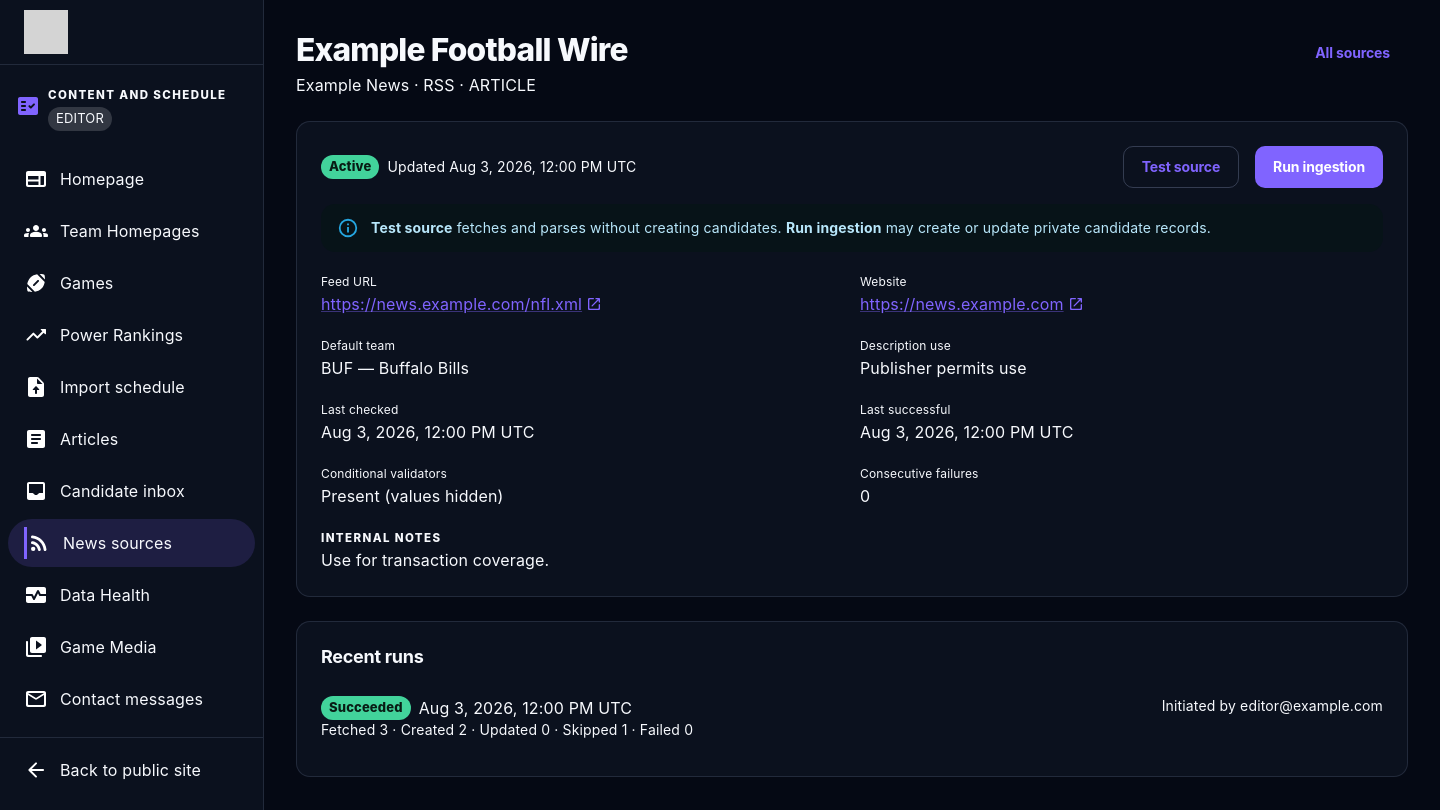
Test: news source administration › shows bounded rate-limit feedback
The width and height of the screenshot is (1440, 810).
Click the button "Test source". click: coordinates (1181, 167)
box: [1123, 146, 1239, 188]
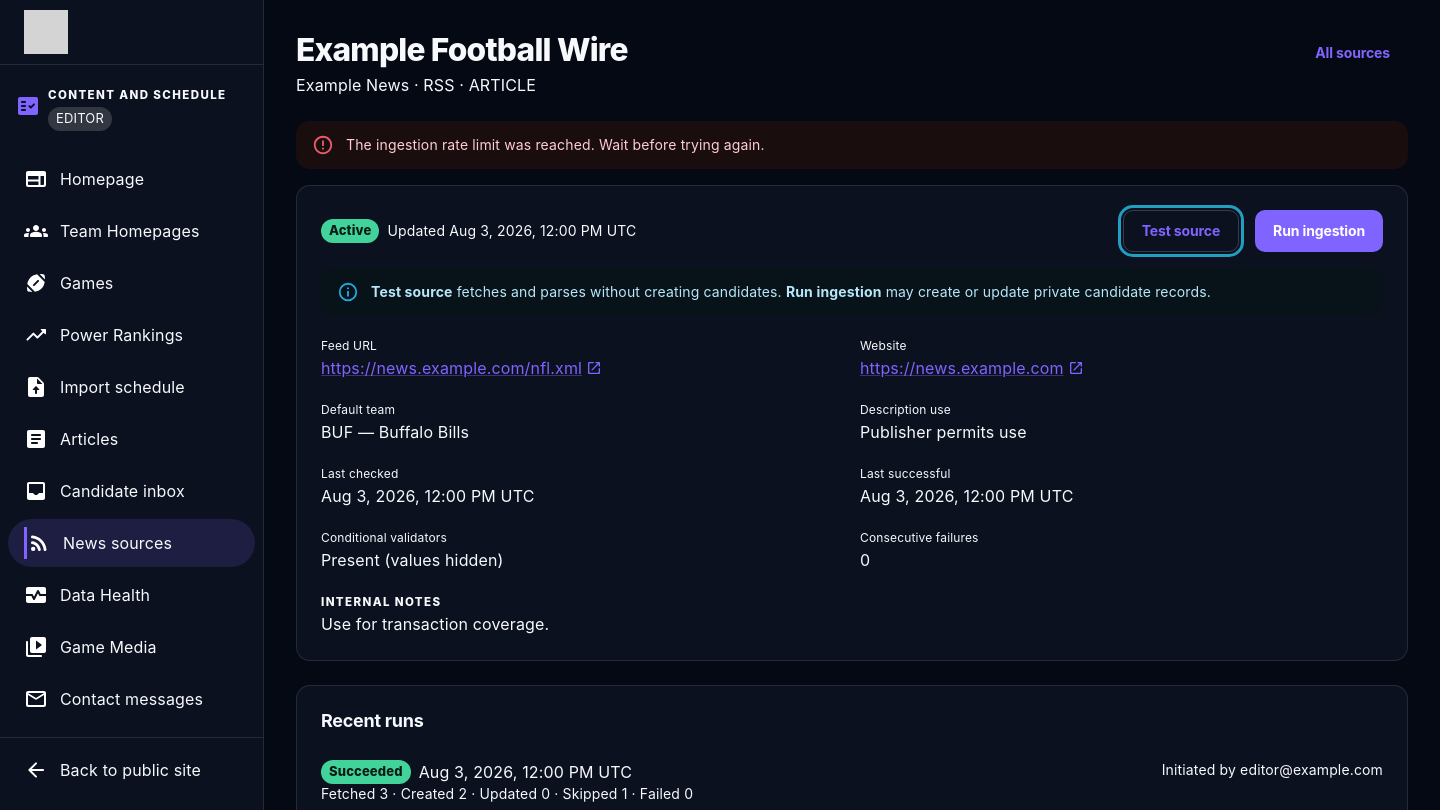
Check: the text "The ingestion rate limit was reached. Wait before trying again." is shown, box [346, 136, 765, 153]
